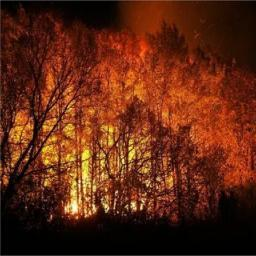Heavy smoke: (2, 0, 256, 104)
Medium fire: (3, 115, 243, 217)
